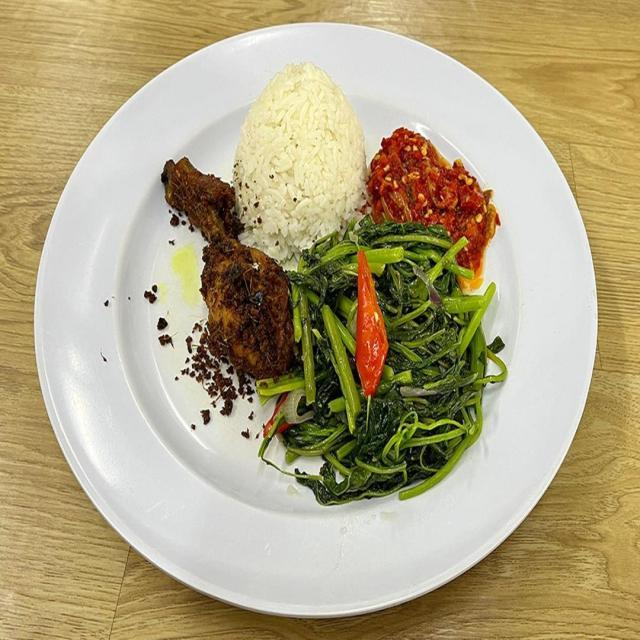Chicken: (166, 160, 298, 382)
Plate: (35, 23, 596, 616)
Rice: (235, 62, 368, 271)
Vegetables: (256, 221, 510, 510)
